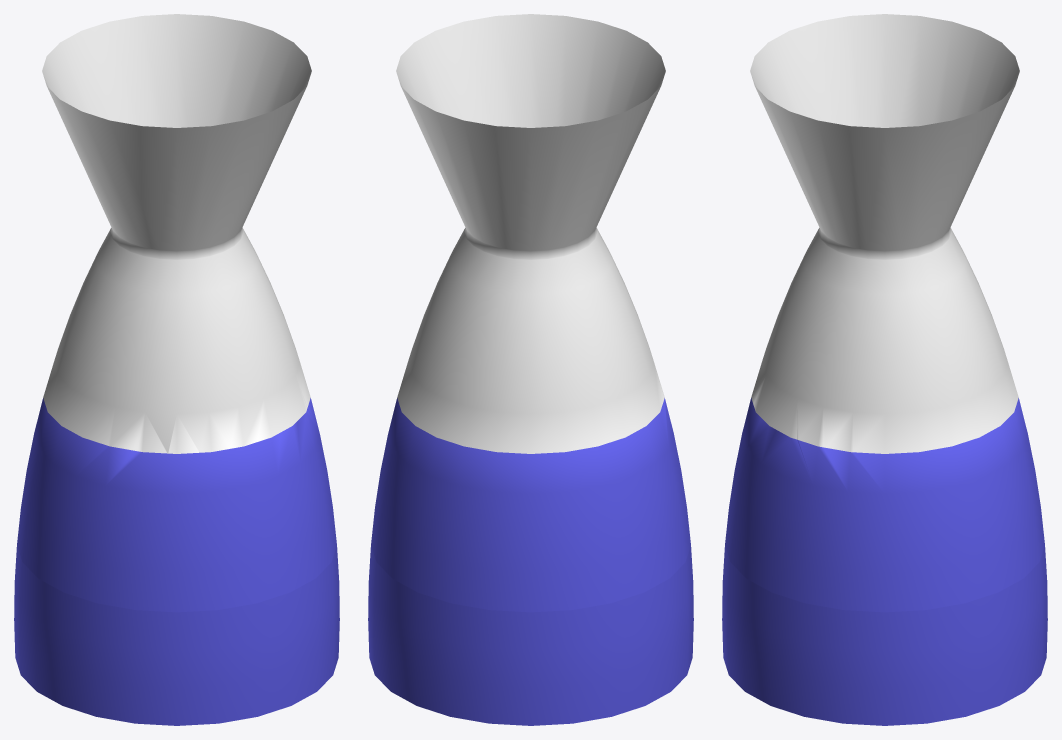
3 views of the same model, side by side, from view 1: azimuth 30°, elevation 25°; view 2: azimuth 150°, elevation 25°; view 3: azimuth 270°, elevation 25° (orthographic).
Parts seen in each view (by area): view 1: mesh1_mesh1-geometry; view 2: mesh1_mesh1-geometry; view 3: mesh1_mesh1-geometry.
Boxes of the visible parts, x1,y1,x2,y2 form: mesh1_mesh1-geometry: [14, 14, 339, 725]; mesh1_mesh1-geometry: [368, 14, 693, 725]; mesh1_mesh1-geometry: [722, 14, 1047, 725].
Bounding box in the file's own units: 0.41 × 0.8147 × 0.41.
